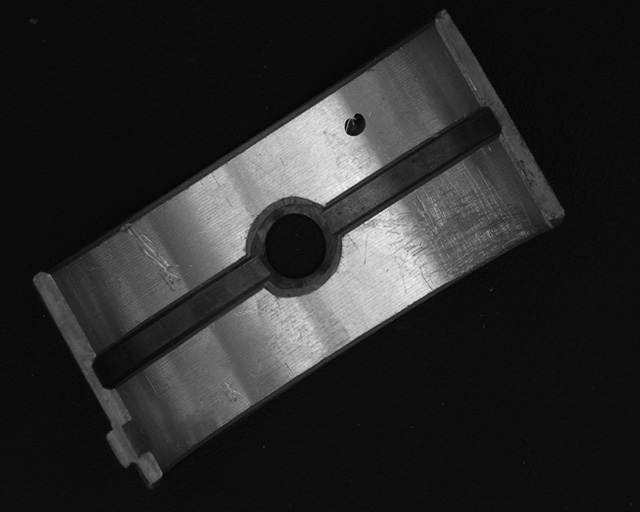blot: (344, 112, 367, 136)
bruise: (222, 379, 243, 404)
gap: (91, 259, 266, 389), (326, 110, 501, 232)
hole: (247, 201, 339, 295)
nick: (121, 221, 183, 293)
scratch: (365, 161, 535, 296)
